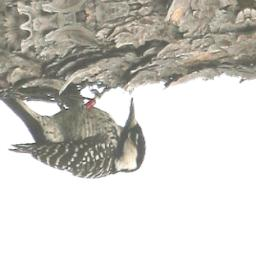Woodpecker: (0, 66, 148, 194)
